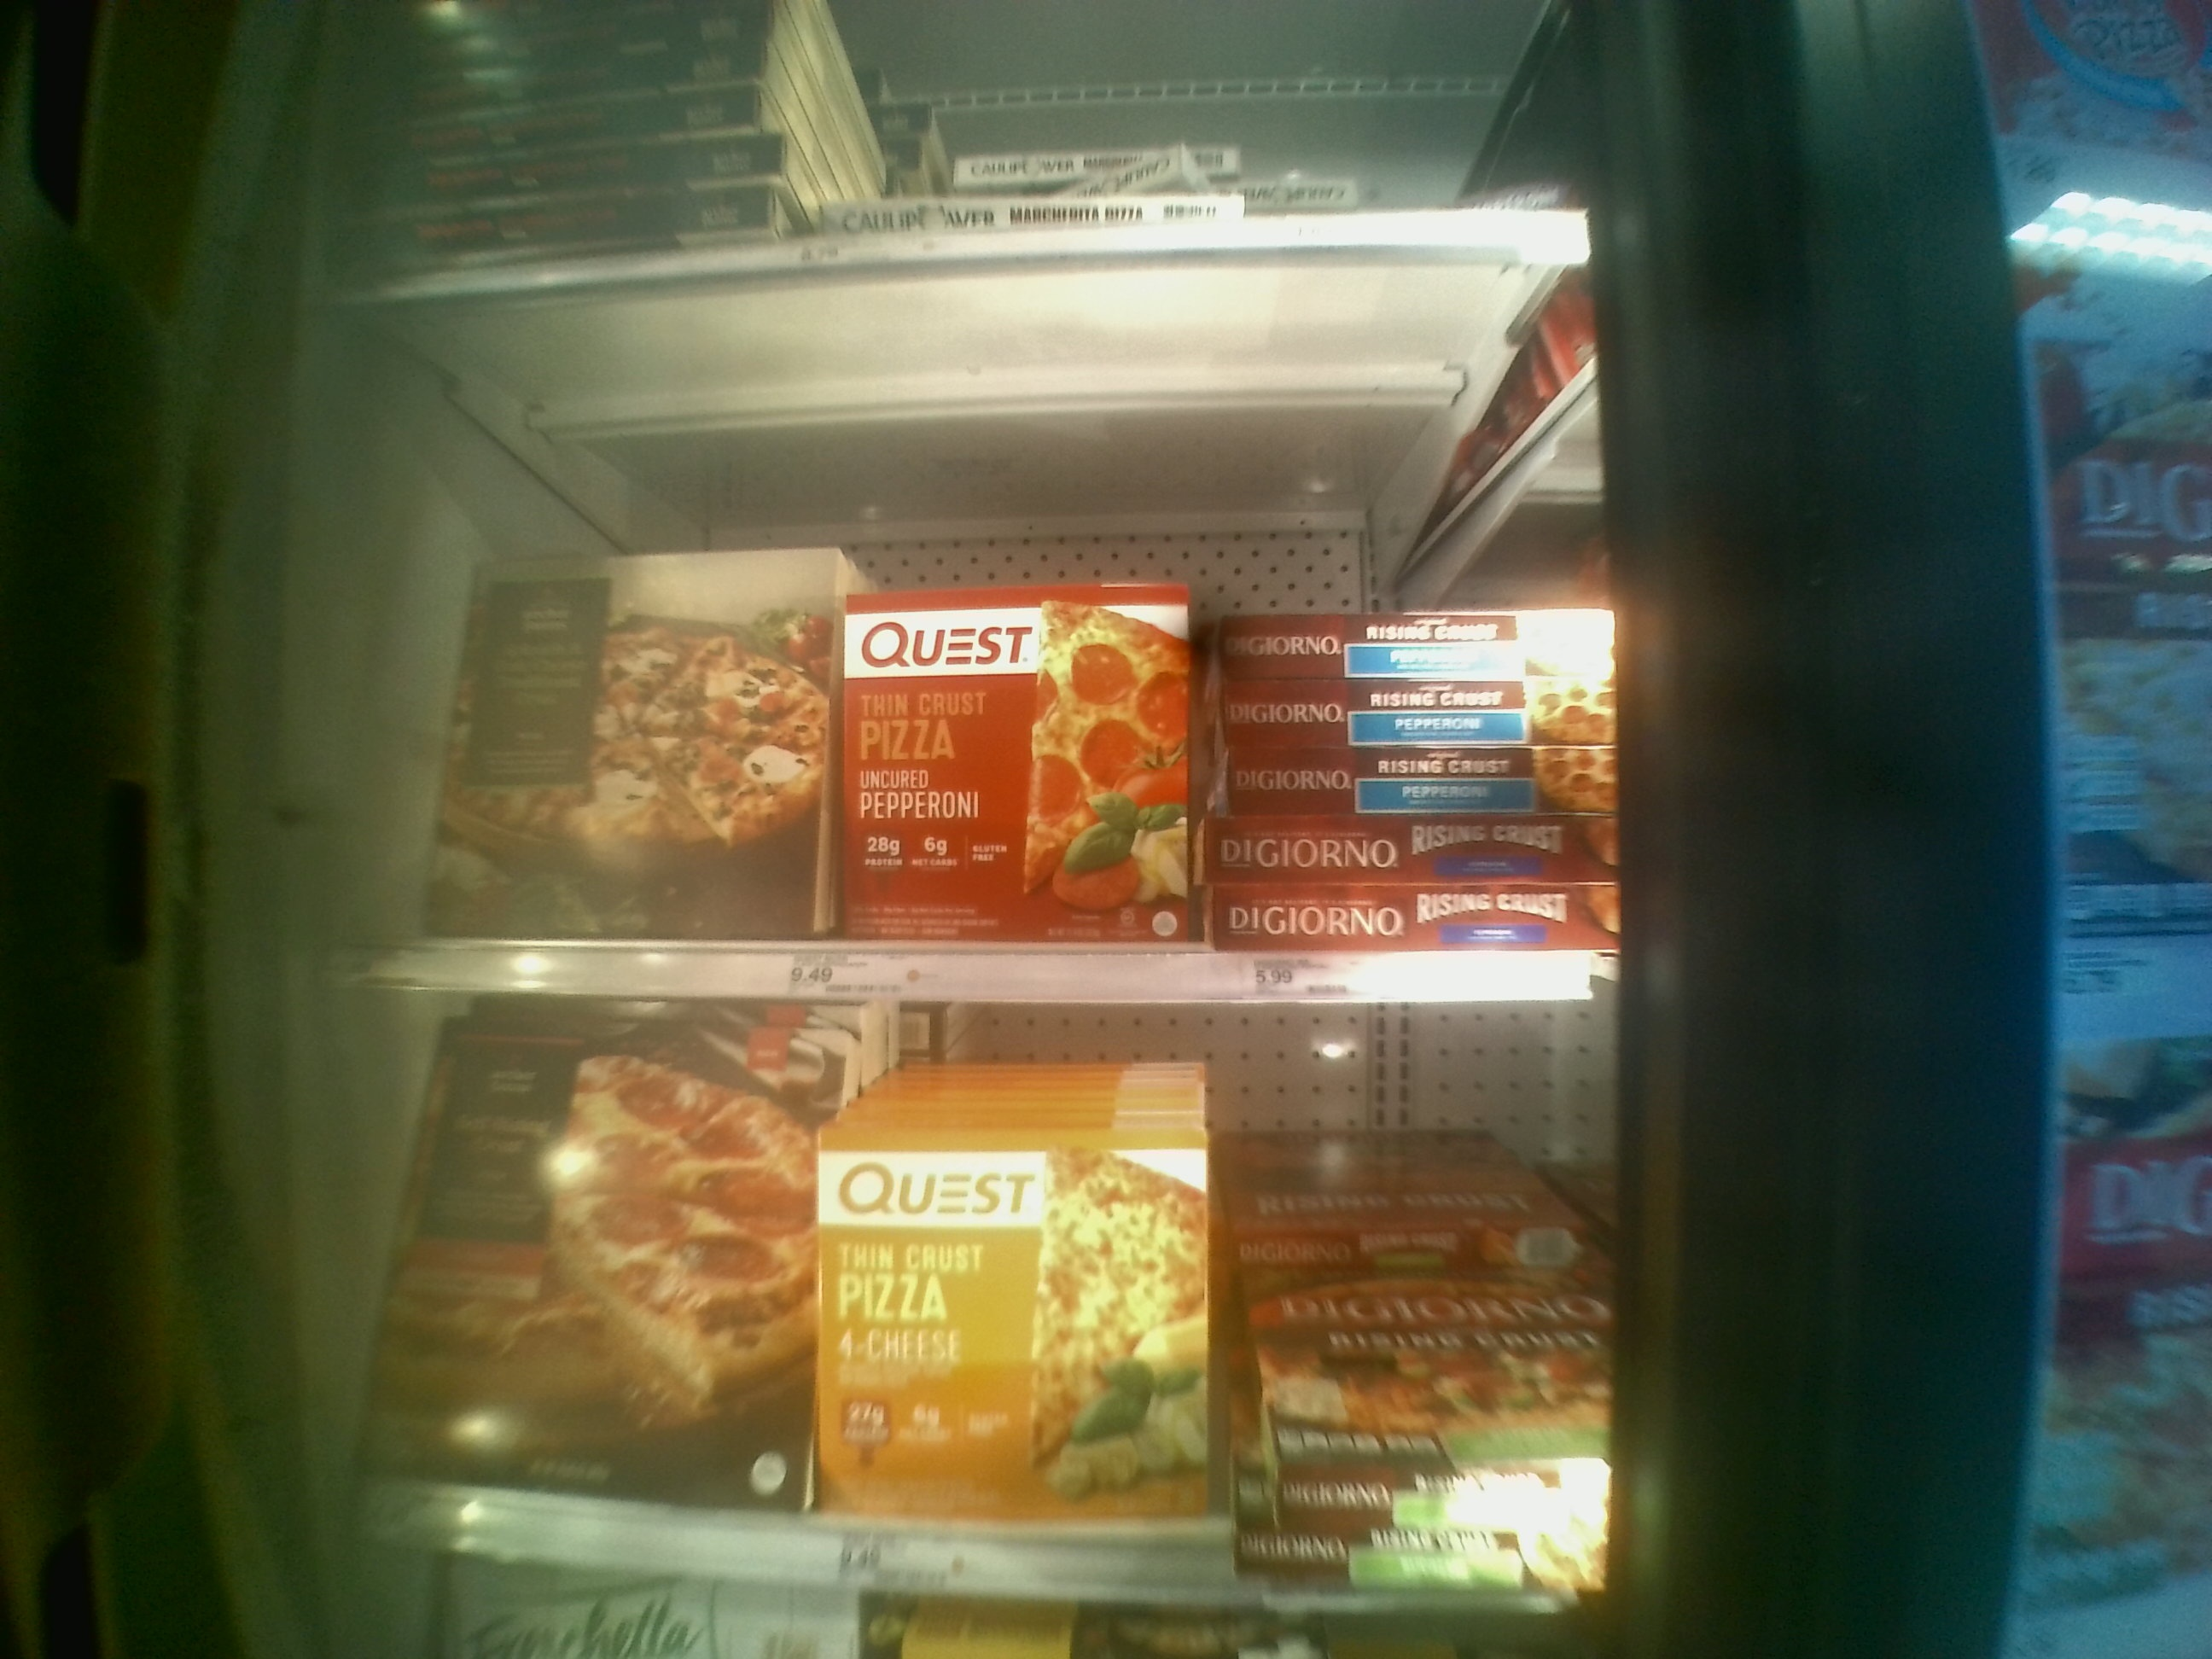shelf: (366, 985, 1623, 1612)
